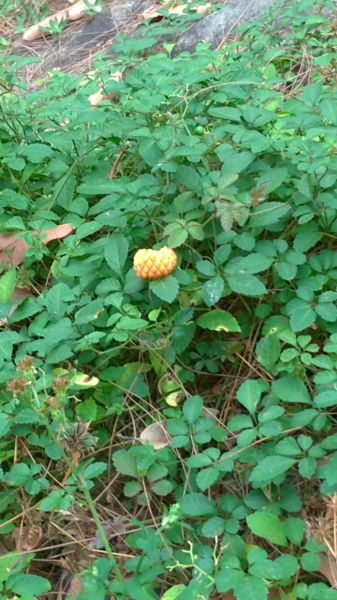eggs: (130, 240, 181, 282)
